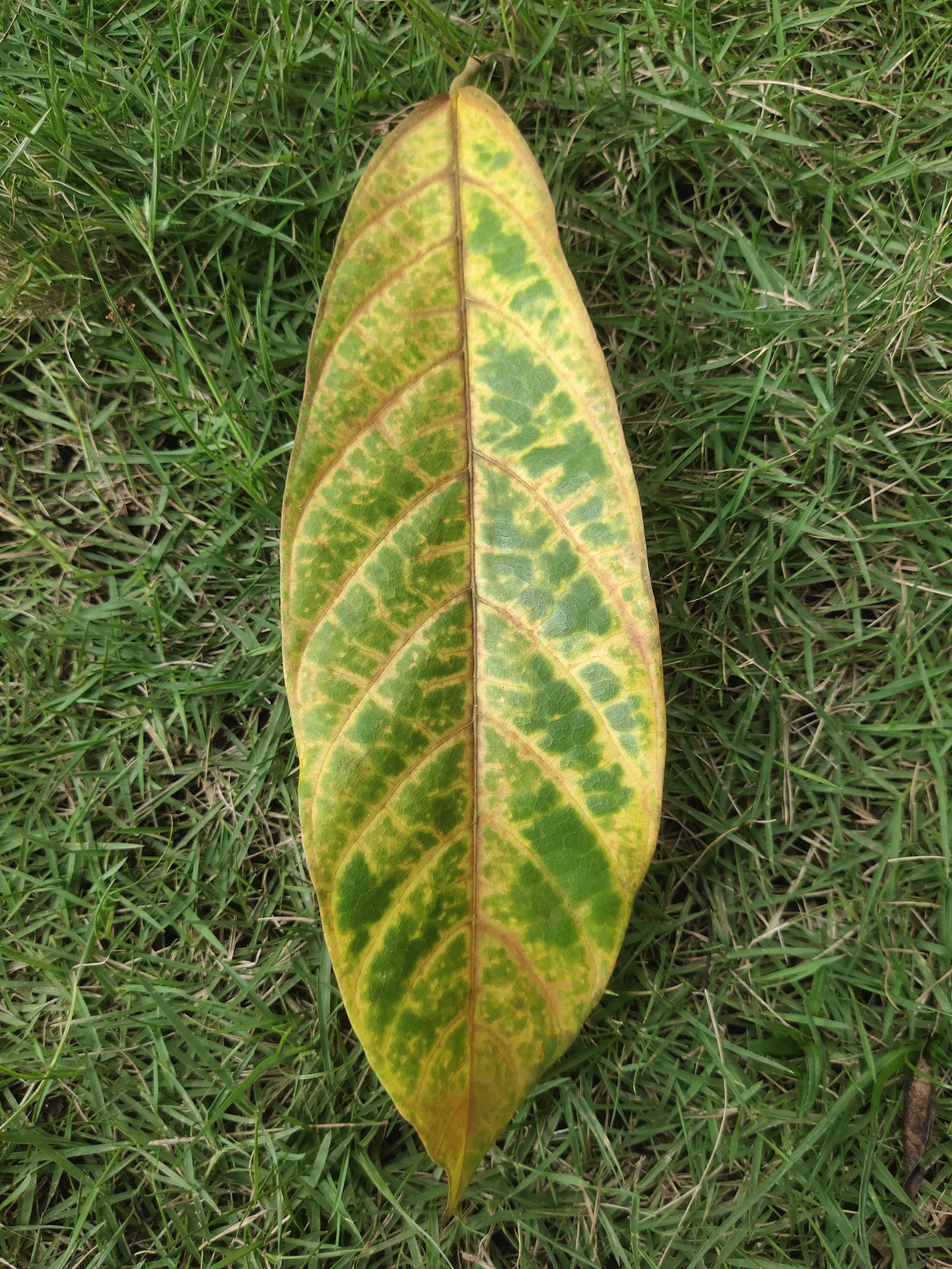deficiencia_potasio: (281, 90, 667, 1216)
